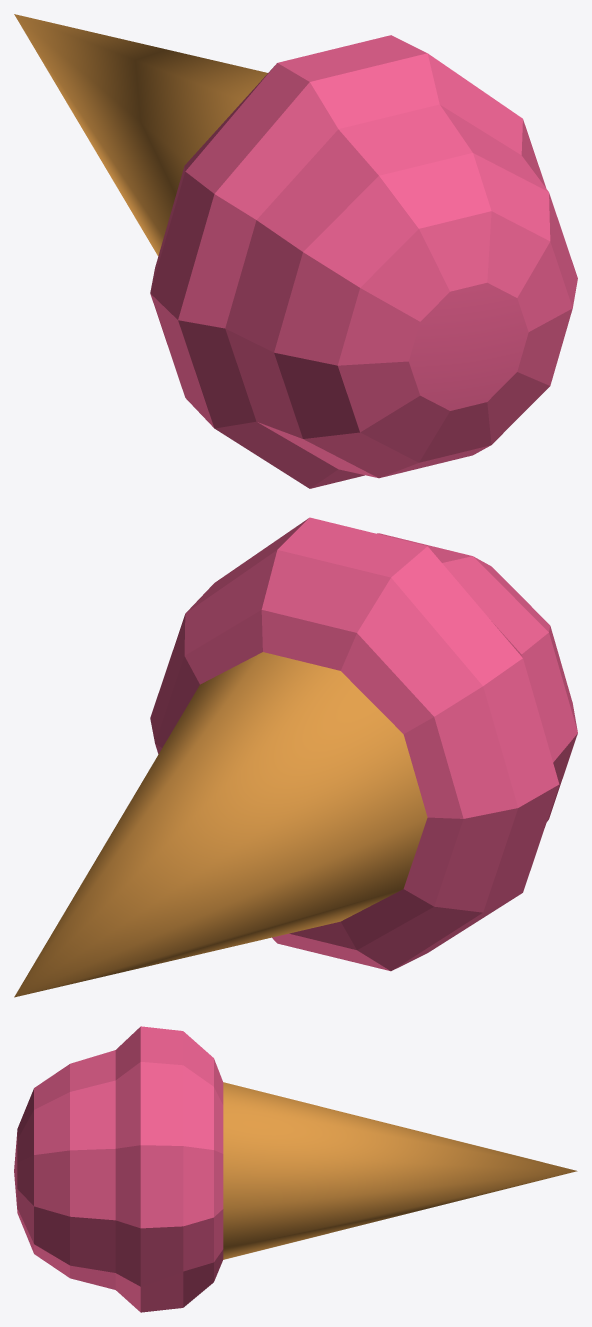
Rendered from 0bd5bc6c-2b73-4fec-a940-17addaa694f5.glb.
3 views of the same model, one above another, from view 1: azimuth 30°, elevation 25°; view 2: azimuth 150°, elevation 25°; view 3: azimuth 270°, elevation 25° (orthographic). The views are drawn at different scales.
Parts seen in each view (by area): view 1: pasted__pCylinder4 group; view 2: pasted__pCylinder4 group; view 3: pasted__pCylinder4 group.
Part boxes in pixels (bbox=[...]): pasted__pCylinder4 group: bbox=[14, 14, 577, 488]; pasted__pCylinder4 group: bbox=[14, 517, 577, 997]; pasted__pCylinder4 group: bbox=[14, 1026, 577, 1312].
Size of the model in its own units: 36.76 by 37.48 by 76.39.
